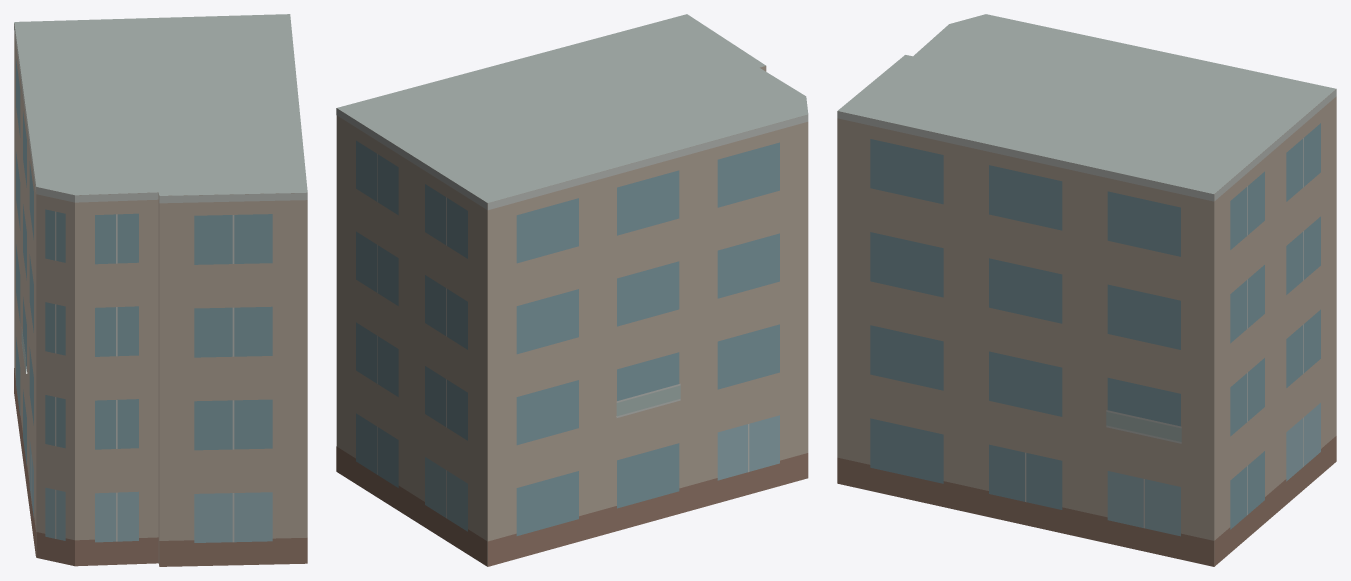
File: survey-upis-32977661.glb
3 renders of one model, left to right at view 1: azimuth 30°, elevation 25°; view 2: azimuth 150°, elevation 25°; view 3: azimuth 270°, elevation 25°, orthographic. The views are drawn at different scales.
Visible parts, largest first — view 1: survey-upis-32977661.tmp; view 2: survey-upis-32977661.tmp; view 3: survey-upis-32977661.tmp.
Part boxes in pixels (x1,y1,x2,y2): survey-upis-32977661.tmp: (14, 14, 307, 566); survey-upis-32977661.tmp: (336, 14, 808, 566); survey-upis-32977661.tmp: (837, 14, 1336, 566).
Bounding box in the file's own units: 12.77 × 12.3 × 14.94.
